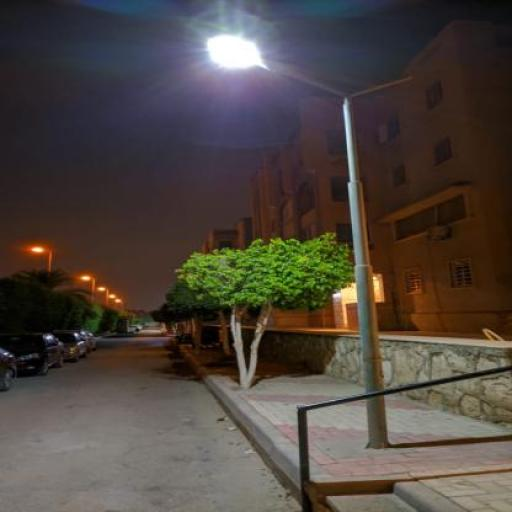street light: (206, 34, 390, 448), (31, 248, 52, 290), (79, 276, 96, 304), (97, 288, 110, 309), (110, 294, 118, 312), (116, 299, 124, 311)
